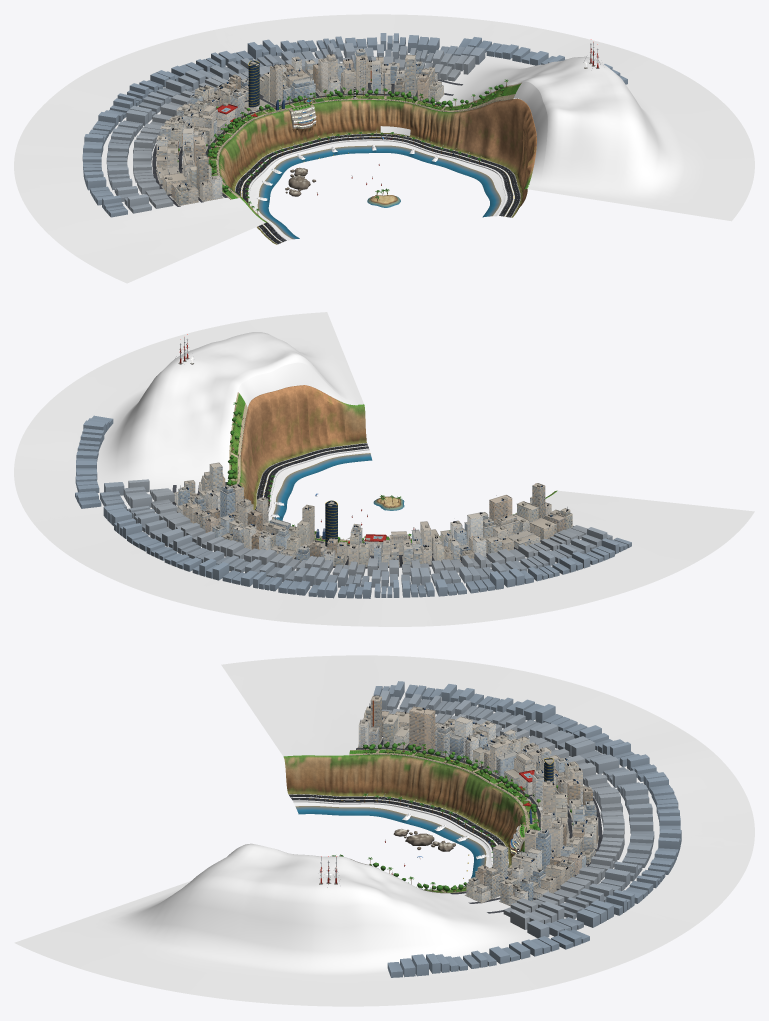
Rendered from costa_verde.glb.
3 renders of one model, top to bottom at view 1: azimuth 30°, elevation 25°; view 2: azimuth 150°, elevation 25°; view 3: azimuth 270°, elevation 25°, orthographic. The views are drawn at different scales.
Visible parts, largest first — view 1: terrain_terrain_ground, city_far, terrain_acantilado, city_buildings, city_solid, terrain_fondo_marino, terrain_pista, park_cesped, terrain_terrain_concrete, park_arboles, park_palmeras, city_torre_curva (+1 smaller); view 2: terrain_terrain_ground, city_far, city_buildings, terrain_acantilado, city_solid, terrain_fondo_marino, park_cesped, terrain_pista, terrain_terrain_concrete; view 3: terrain_terrain_ground, city_far, city_buildings, terrain_acantilado, city_solid, terrain_fondo_marino, park_cesped, terrain_pista, park_arboles, terrain_terrain_concrete, extras_islotes.
Boxes of the visible parts, x1,y1,x2,y2 form: terrain_terrain_ground: (14, 14, 754, 283); city_far: (82, 33, 627, 217); terrain_acantilado: (219, 98, 536, 244); city_buildings: (156, 49, 443, 204); city_solid: (152, 48, 462, 206); terrain_fondo_marino: (257, 145, 501, 239); terrain_pista: (235, 134, 520, 244); park_cesped: (208, 82, 521, 199); terrain_terrain_concrete: (235, 126, 520, 244); park_arboles: (207, 84, 504, 193); park_palmeras: (207, 79, 508, 214); city_torre_curva: (248, 60, 259, 107); terrain_terrain_ground: (14, 312, 754, 626); city_far: (75, 415, 631, 598); city_buildings: (174, 463, 572, 566); terrain_acantilado: (239, 385, 557, 513); city_solid: (172, 462, 573, 568); terrain_fondo_marino: (272, 453, 372, 520); park_cesped: (229, 392, 516, 544); terrain_pista: (256, 443, 368, 507); terrain_terrain_concrete: (255, 443, 369, 513); terrain_terrain_ground: (14, 655, 754, 1006); city_far: (370, 681, 681, 977); city_buildings: (358, 696, 598, 904); terrain_acantilado: (283, 754, 526, 866); city_solid: (356, 695, 602, 913); terrain_fondo_marino: (295, 806, 486, 886); park_cesped: (349, 749, 538, 893); terrain_pista: (289, 794, 508, 865); park_arboles: (363, 743, 540, 892); terrain_terrain_concrete: (289, 794, 508, 866); extras_islotes: (393, 829, 455, 851).
Bounding box in the file's own units: 400 × 67.46 × 354.
Materials: 41 (4 with a texture image).
